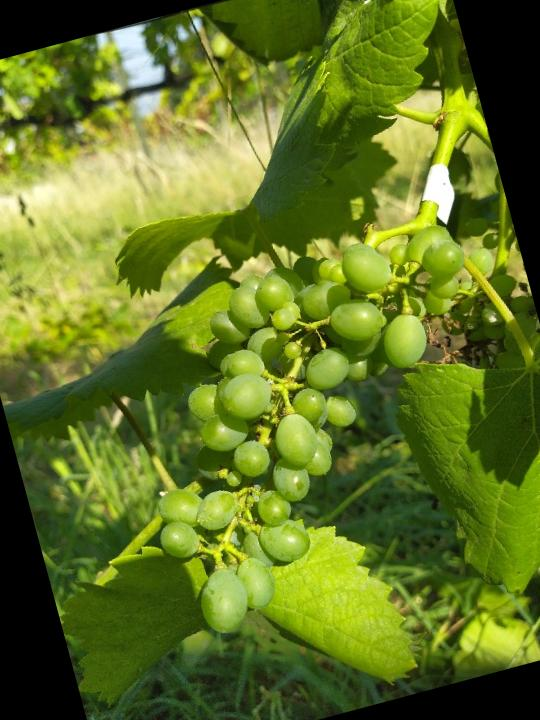grape: (91, 205, 540, 656)
